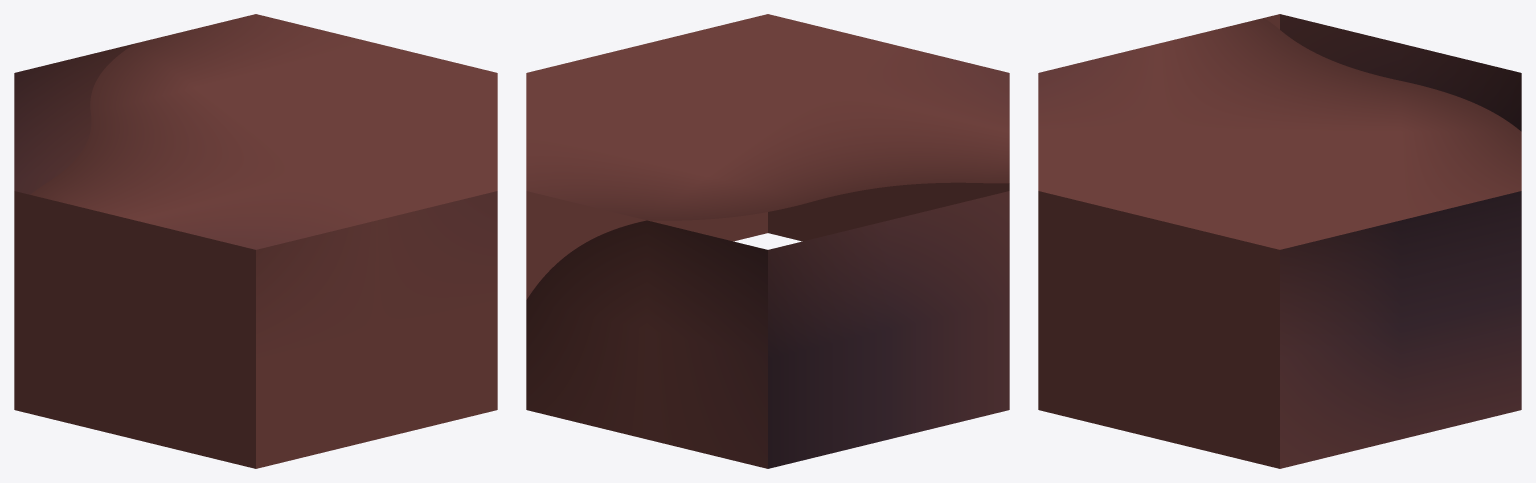
Rendered from coin.dae.
The picture shows the model from 3 angles, left to right: view 1: azimuth 30°, elevation 25°; view 2: azimuth 150°, elevation 25°; view 3: azimuth 270°, elevation 25°; orthographic projection.
Visible parts, largest first — view 1: cylinder; view 2: cylinder; view 3: cylinder.
Part boxes in pixels (box(x1,y1,x2,y2)): cylinder: box(14, 14, 497, 468); cylinder: box(526, 14, 1009, 468); cylinder: box(1038, 14, 1521, 468).
Size of the model in its own units: 0.1443 by 0.0625 by 0.125.
